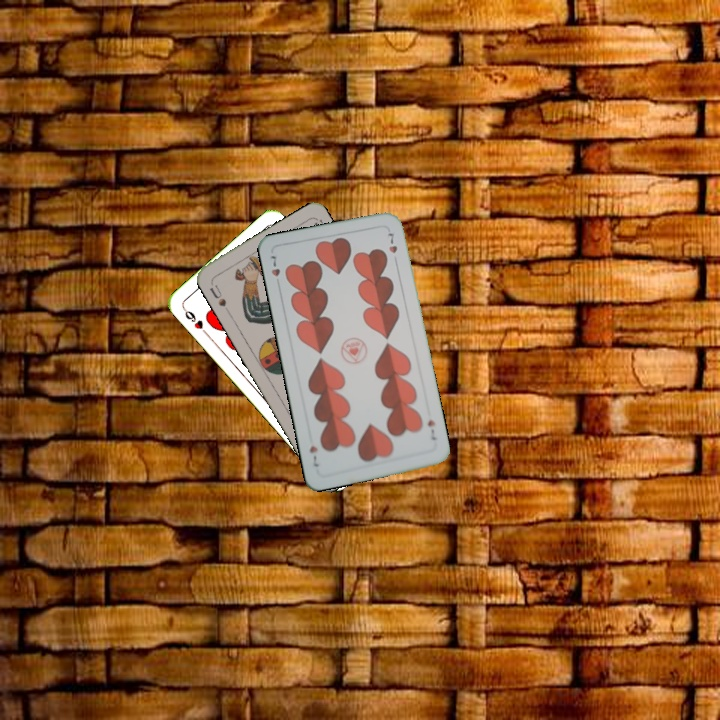H7: (266, 250, 283, 290), (423, 416, 440, 443)
H9: (179, 304, 209, 337)
SU: (206, 278, 232, 315)
